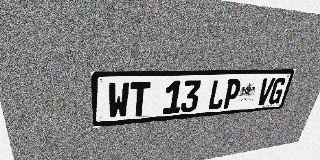1: (163, 80, 184, 114)
3: (180, 80, 201, 113)
G: (267, 77, 287, 105)
L: (207, 79, 228, 110)
P: (221, 79, 242, 109)
T: (129, 81, 151, 117)
V: (255, 78, 276, 106)
W: (108, 82, 130, 119)
